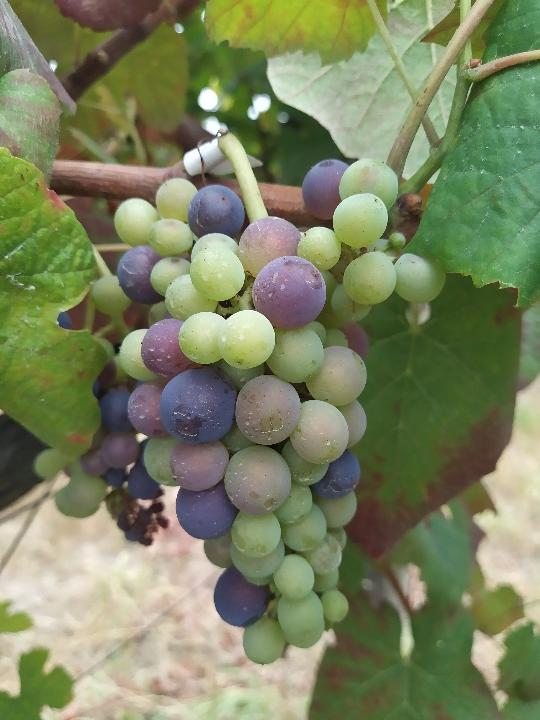grape: (112, 156, 450, 666)
